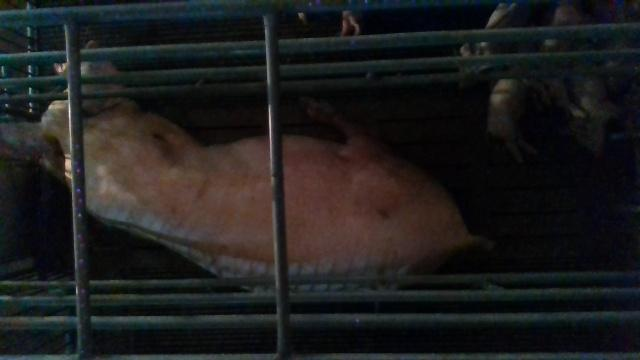piglet: (459, 1, 529, 90), (570, 44, 623, 158), (487, 77, 548, 165)
sow-sit: (3, 39, 496, 290)
